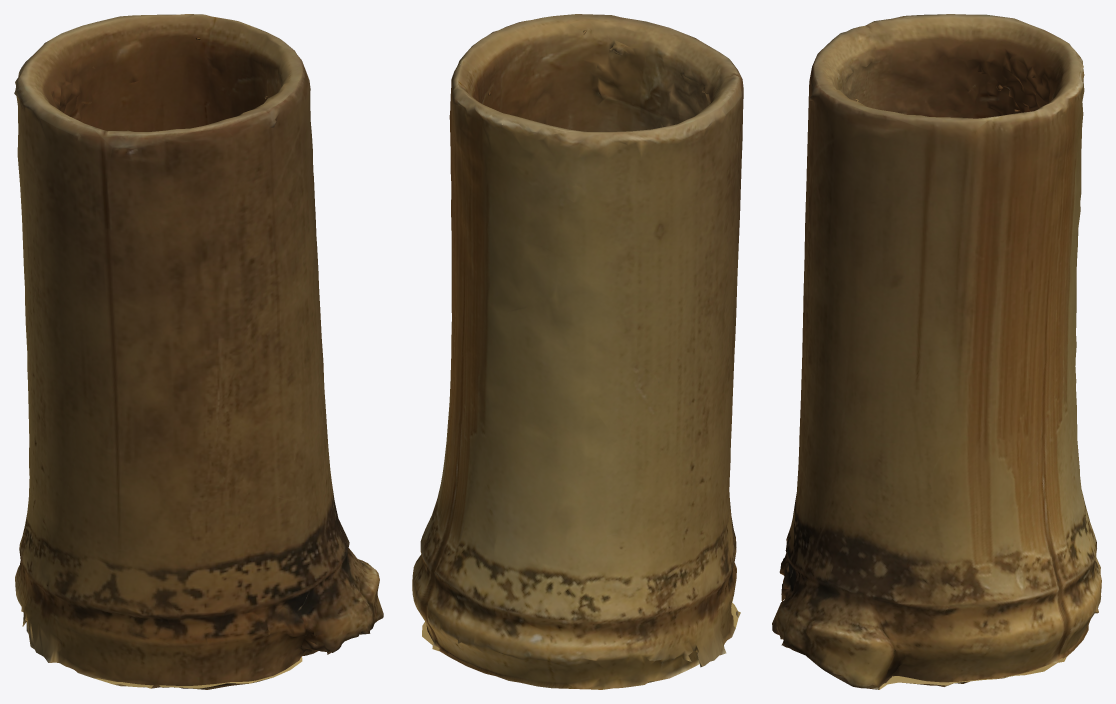
Rendered from Bamboo_20210621.fbx.
The picture shows the model from 3 angles, left to right: view 1: azimuth 30°, elevation 25°; view 2: azimuth 150°, elevation 25°; view 3: azimuth 270°, elevation 25°; orthographic projection. The views are drawn at different scales.
Visible parts, largest first — view 1: Model; view 2: Model; view 3: Model.
Boxes of the visible parts, left/top/right/bottom form: Model: left=14, top=14, right=383, bottom=689; Model: left=412, top=14, right=743, bottom=689; Model: left=772, top=14, right=1101, bottom=689.
Bounding box in the file's own units: 0.046 × 0.0826 × 0.0448.
